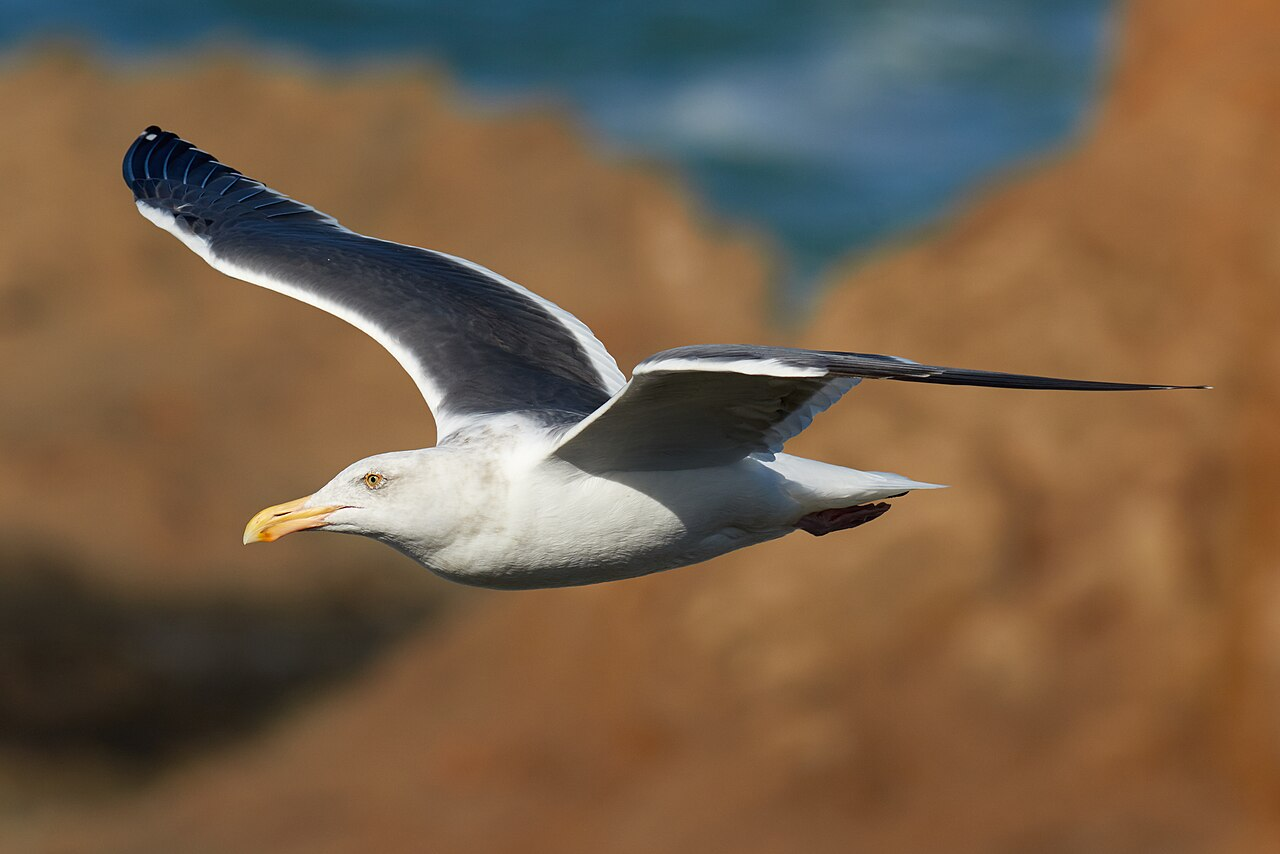bird: (120, 107, 1213, 594)
